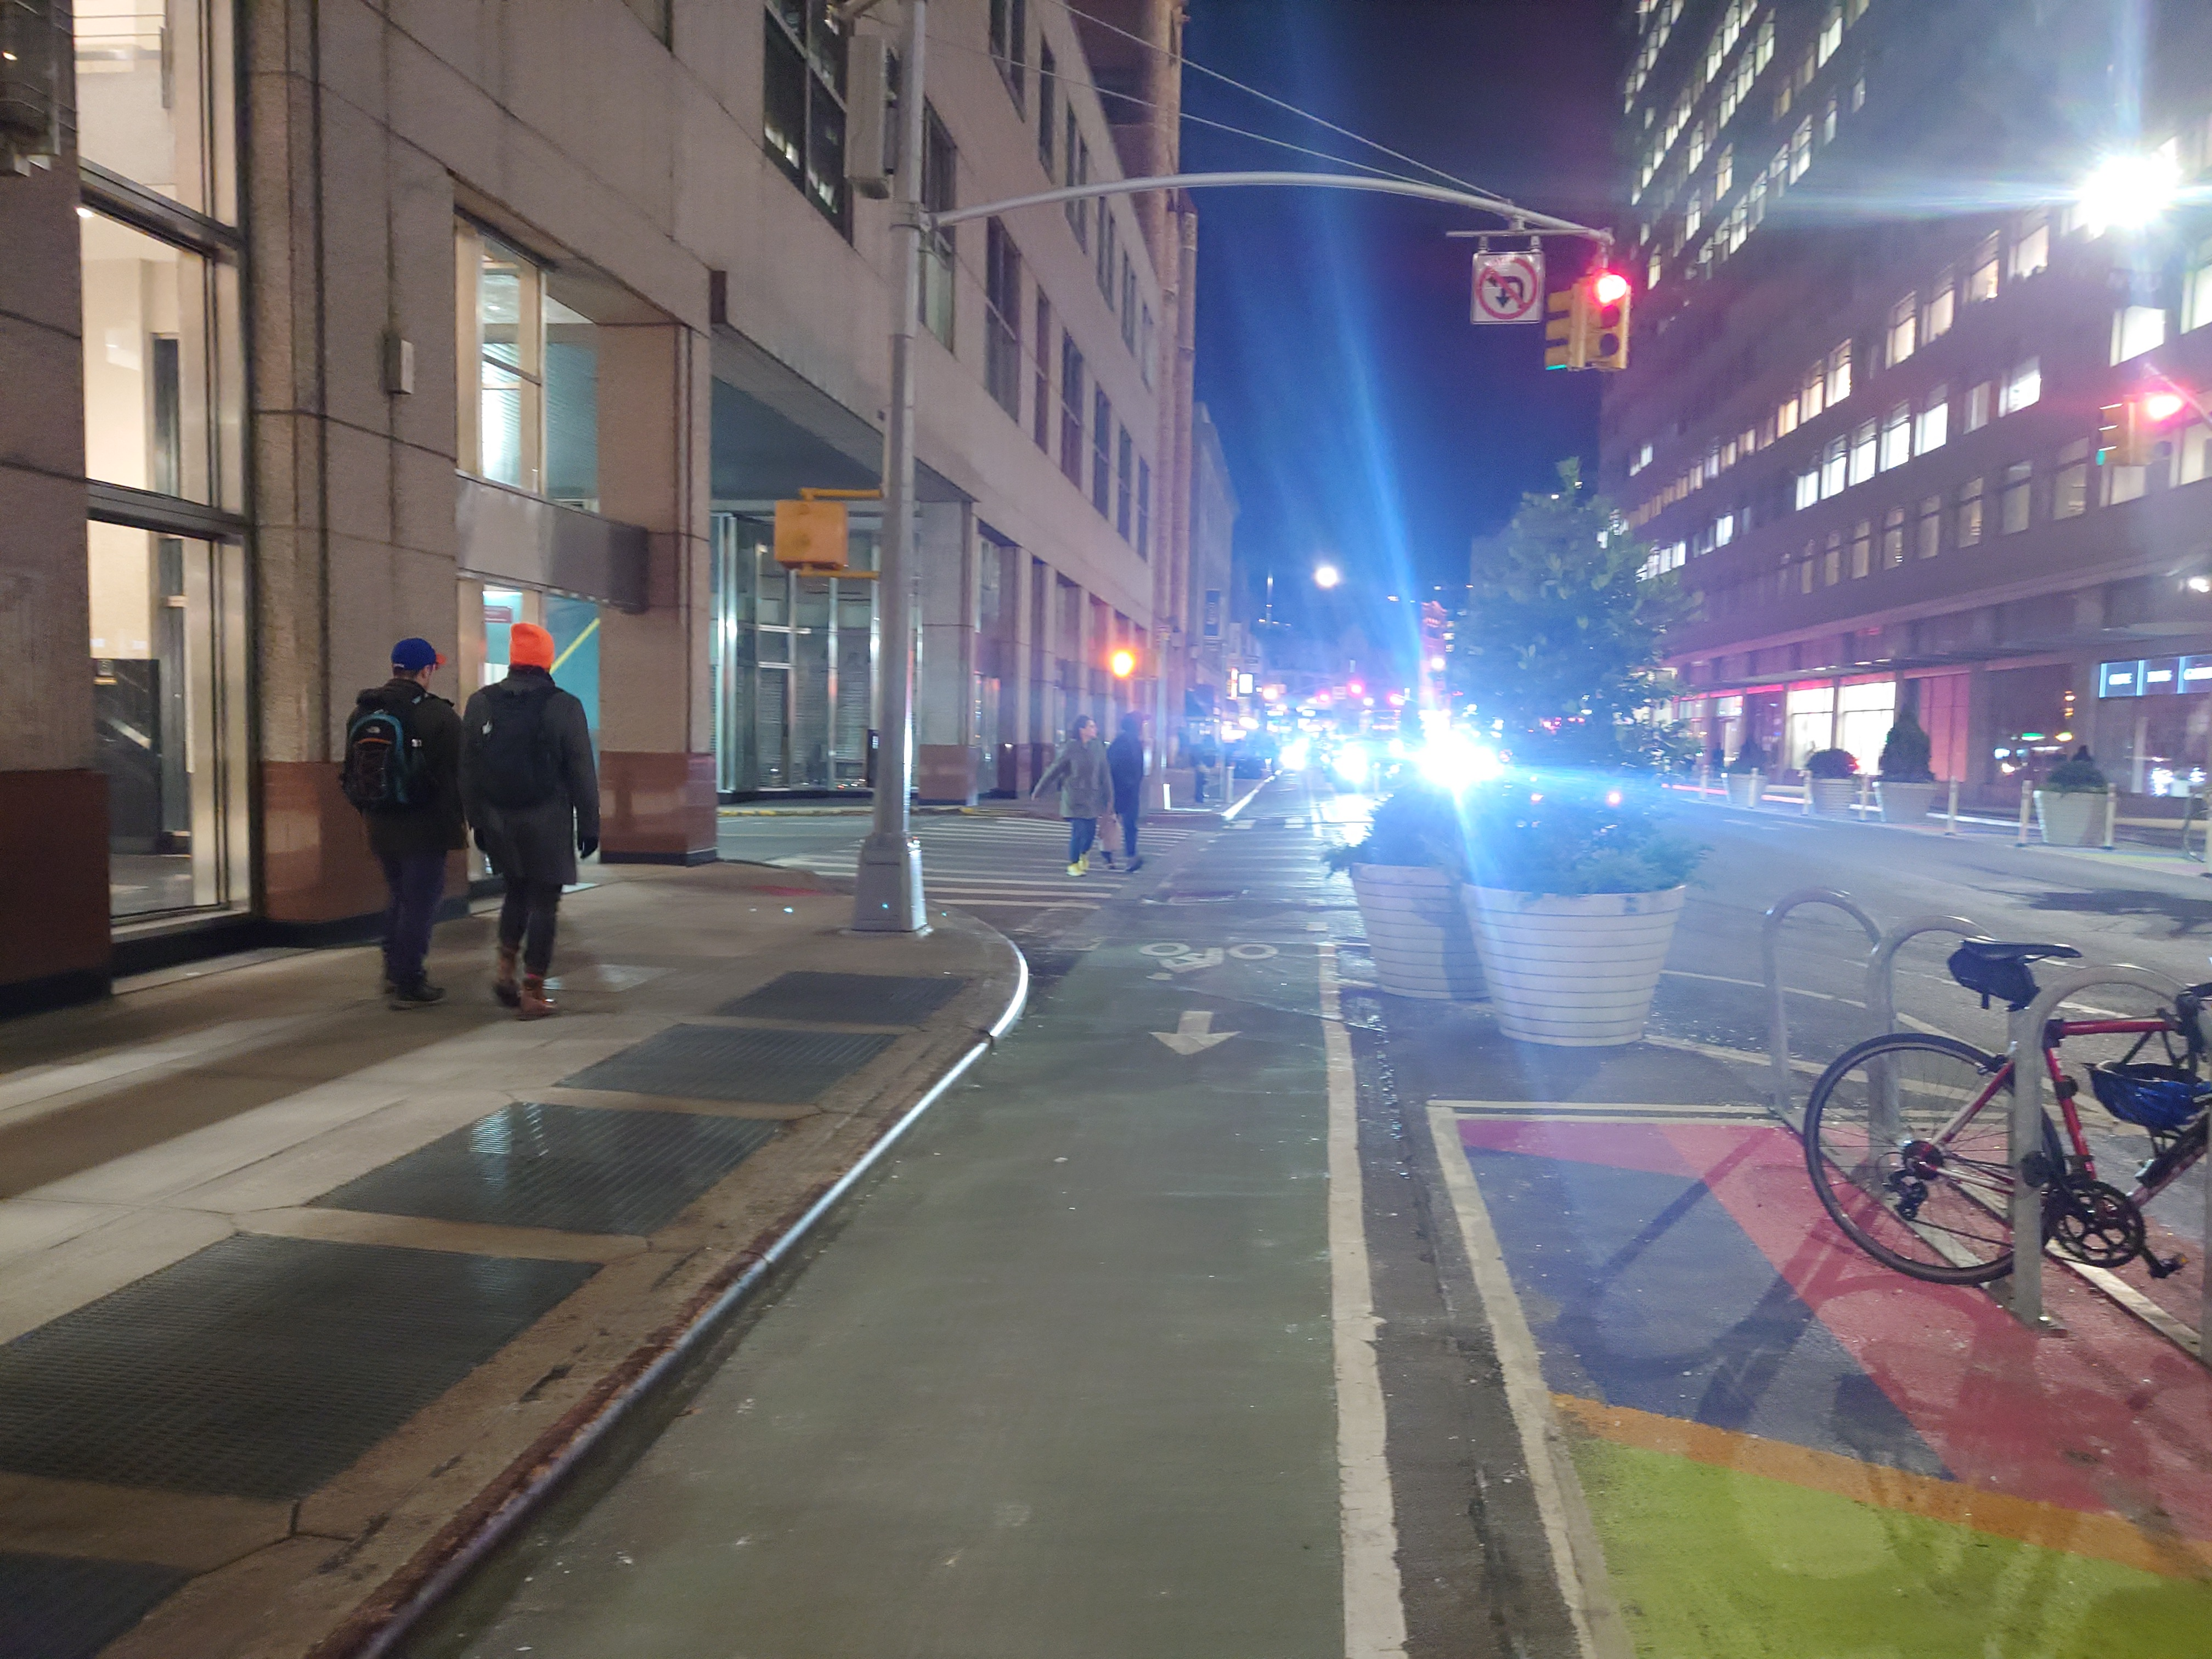person: (471, 622, 606, 1008), (331, 638, 468, 1009), (1057, 714, 1114, 880), (1112, 711, 1150, 874)
